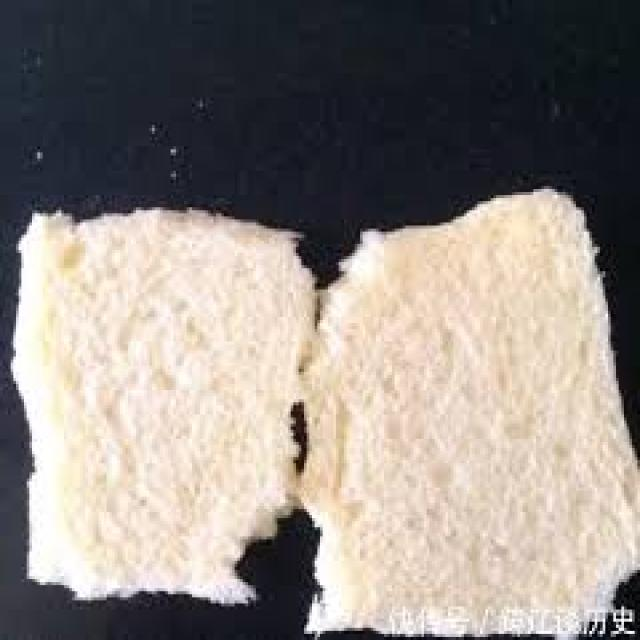organic: (28, 184, 620, 639)
